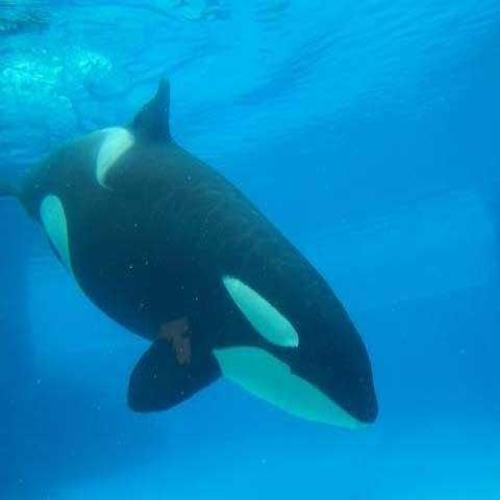killer_whale-endangered: (6, 70, 390, 447)
